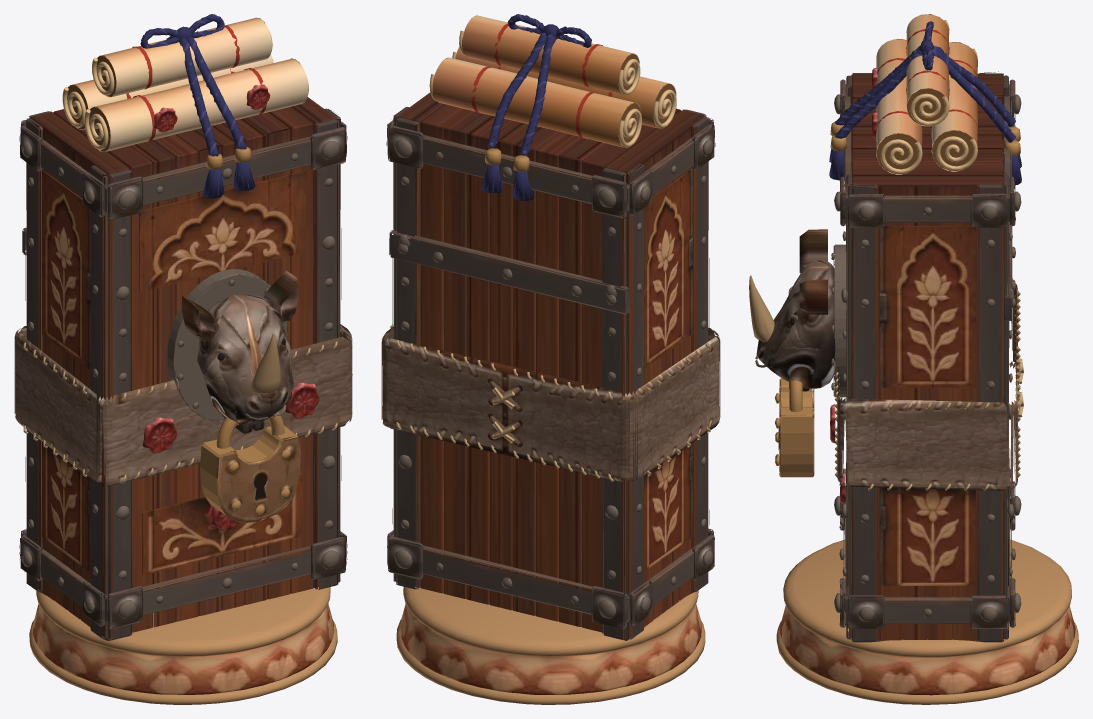
File: relic-rhino.glb
3 views of the same model, side by side, from view 1: azimuth 30°, elevation 25°; view 2: azimuth 150°, elevation 25°; view 3: azimuth 270°, elevation 25° (orthographic). The views are drawn at different scales.
Parts seen in each view (by area): view 1: Rhino | Hand-painted dark teak, Rhino | Blackened iron · hammered, Rhino | Pebbled grey hide, Rhino | Vellum · painted, Rhino | Warm sandstone, Rhino | Lotus-painted sandstone, Rhino | Sculpted black-iron rhino, Rhino | Painted aged bronze, Rhino | Worn iron edge.001, Rhino | Worn iron edge, Rhino | Deep indigo silk, Rhino | Pressed wax rosette (+7 smaller); view 2: Rhino | Hand-painted dark teak, Rhino | Blackened iron · hammered, Rhino | Pebbled grey hide, Rhino | Vellum · painted, Rhino | Warm sandstone, Rhino | Lotus-painted sandstone, Rhino | Worn iron edge, Rhino | Deep indigo silk, Rhino | Cut vellum edge, Rhino | Ochre sinew, Rhino | Indigo cord highlight, Rhino | Shadow inside rolled paper (+1 smaller); view 3: Rhino | Hand-painted dark teak, Rhino | Blackened iron · hammered, Rhino | Pebbled grey hide, Rhino | Warm sandstone, Rhino | Lotus-painted sandstone, Rhino | Sculpted black-iron rhino, Rhino | Vellum · painted, Rhino | Deep indigo silk, Rhino | Worn iron edge, Rhino | Painted aged bronze, Rhino | Shadow inside rolled paper, Rhino | Cut vellum edge (+7 smaller).
Boxes of the visible parts, box(x1,y1,x2,y2) form: Rhino | Hand-painted dark teak: box(30, 97, 336, 640); Rhino | Blackened iron · hammered: box(19, 108, 347, 640); Rhino | Pebbled grey hide: box(14, 324, 352, 486); Rhino | Vellum · painted: box(68, 17, 308, 151); Rhino | Warm sandstone: box(29, 587, 337, 704); Rhino | Lotus-painted sandstone: box(32, 603, 334, 694); Rhino | Sculpted black-iron rhino: box(181, 270, 298, 425); Rhino | Painted aged bronze: box(200, 425, 300, 522); Rhino | Worn iron edge.001: box(167, 269, 287, 421); Rhino | Worn iron edge: box(21, 141, 338, 618); Rhino | Deep indigo silk: box(140, 15, 255, 198); Rhino | Pressed wax rosette: box(142, 85, 319, 529); Rhino | Hand-painted dark teak: box(396, 92, 704, 640); Rhino | Blackened iron · hammered: box(386, 107, 715, 640); Rhino | Pebbled grey hide: box(381, 326, 720, 481); Rhino | Vellum · painted: box(432, 15, 676, 147); Rhino | Warm sandstone: box(396, 587, 705, 704); Rhino | Lotus-painted sandstone: box(400, 603, 701, 694); Rhino | Worn iron edge: box(394, 139, 713, 618); Rhino | Deep indigo silk: box(481, 14, 591, 200); Rhino | Cut vellum edge: box(429, 30, 676, 147); Rhino | Ochre sinew: box(390, 324, 710, 481); Rhino | Indigo cord highlight: box(481, 14, 587, 199); Rhino | Shadow inside rolled paper: box(435, 15, 675, 147); Rhino | Hand-painted dark teak: box(851, 74, 1003, 642); Rhino | Blackened iron · hammered: box(789, 71, 1015, 641); Rhino | Pebbled grey hide: box(837, 284, 1018, 490); Rhino | Warm sandstone: box(776, 539, 1078, 704); Rhino | Lotus-painted sandstone: box(780, 605, 1075, 695); Rhino | Sculpted black-iron rhino: box(756, 229, 835, 388); Rhino | Vellum · painted: box(876, 14, 977, 174); Rhino | Deep indigo silk: box(829, 21, 1021, 185); Rhino | Worn iron edge: box(755, 94, 1021, 621); Rhino | Painted aged bronze: box(779, 378, 814, 477); Rhino | Shadow inside rolled paper: box(876, 14, 973, 173); Rhino | Cut vellum edge: box(880, 20, 977, 173).
Size of the model in its own units: 0.2523 by 0.5597 by 0.2753.
Materials: 19 (8 with a texture image).
